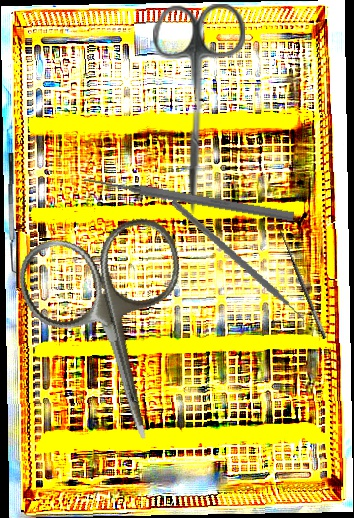Chopper: (153, 198, 322, 336)
Hook Surgical: (267, 222, 329, 343)
Iris Scissors: (10, 210, 221, 461), (149, 2, 246, 216)
Pusher: (82, 172, 295, 224)
Spatula Surgical: (5, 152, 25, 274)
